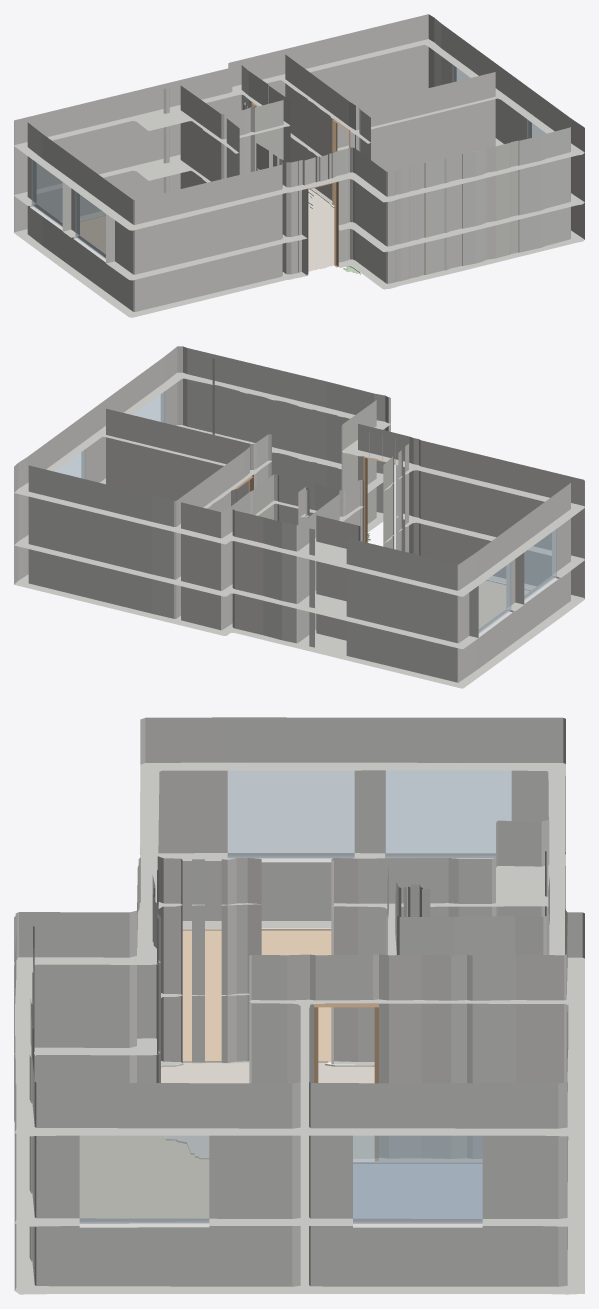
3 renders of one model, top to bottom at view 1: azimuth 30°, elevation 25°; view 2: azimuth 150°, elevation 25°; view 3: azimuth 270°, elevation 25°, orthographic. The views are drawn at different scales.
Parts seen in each view (by area): view 1: walls, floor_5_Entry, window_3, window_5, floor_2_Living_Room, door_2; view 2: walls, window_3, window_5, floor_2_Living_Room, window_6, window_4, door_2; view 3: walls, window_4, window_6, window_5, window_3, floor_1_Kitchen, floor_3_Bed_Room, floor_2_Living_Room, floor_5_Entry, door_1, sill_6, sill_4 (+1 smaller).
Part boxes in pixels (x1,y1,x2,y2): walls: [14, 14, 584, 317]; floor_5_Entry: [308, 189, 334, 271]; window_3: [31, 155, 64, 227]; window_5: [75, 187, 110, 258]; floor_2_Living_Room: [80, 215, 105, 253]; door_2: [307, 181, 338, 274]; walls: [14, 346, 584, 688]; window_3: [474, 562, 511, 636]; window_5: [524, 529, 556, 600]; floor_2_Living_Room: [479, 580, 530, 628]; window_6: [132, 391, 165, 422]; window_4: [54, 449, 85, 479]; door_2: [363, 456, 395, 542]; walls: [14, 717, 584, 1294]; window_4: [353, 1132, 482, 1223]; window_6: [79, 1132, 209, 1223]; window_5: [227, 766, 354, 857]; window_3: [385, 766, 511, 857]; floor_1_Kitchen: [80, 1136, 208, 1218]; floor_3_Bed_Room: [353, 1162, 482, 1218]; floor_2_Living_Room: [182, 929, 331, 1062]; floor_5_Entry: [161, 1061, 374, 1158]; door_1: [314, 1003, 378, 1161]; sill_6: [79, 1220, 209, 1227]; sill_4: [353, 1221, 482, 1227].
Bounding box in the file's own units: 10.64 × 2.72 × 6.87.
